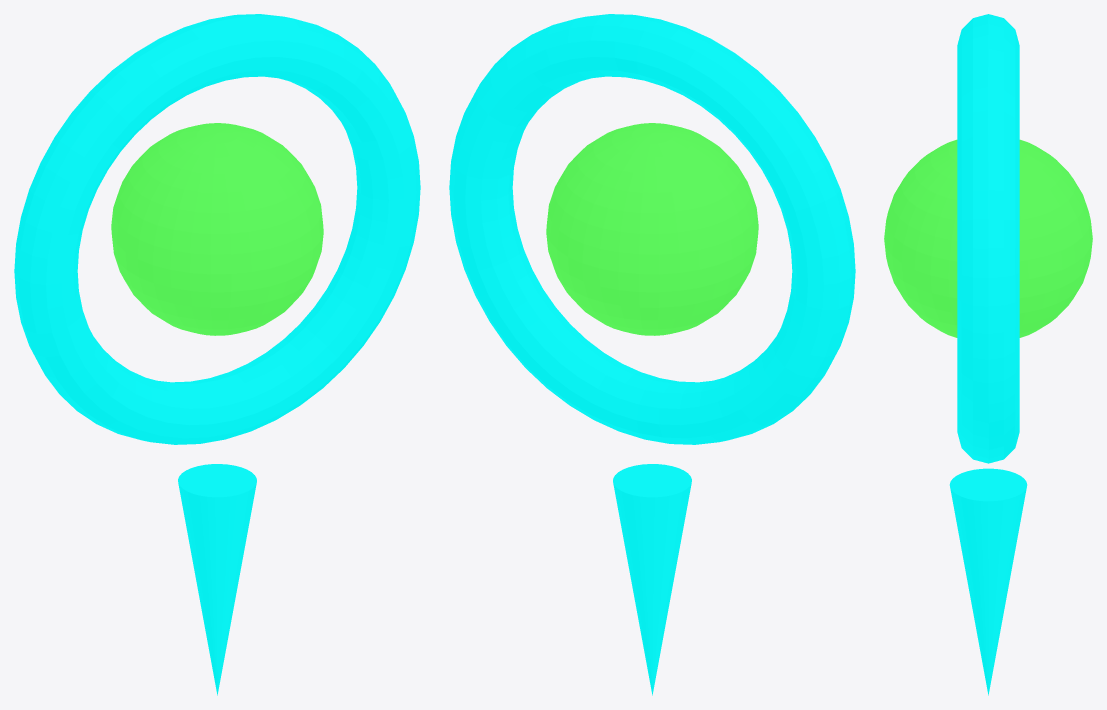
File: ring_icon.glb
The picture shows the model from 3 angles, left to right: view 1: azimuth 30°, elevation 25°; view 2: azimuth 150°, elevation 25°; view 3: azimuth 270°, elevation 25°; orthographic projection. The views are drawn at different scales.
Parts seen in each view (by area): view 1: CollectibleRing, SeedCore, BaseCone; view 2: CollectibleRing, SeedCore, BaseCone; view 3: CollectibleRing, SeedCore, BaseCone.
Part boxes in pixels (box(x1,y1,x2,y2)): CollectibleRing: box(14, 14, 420, 444); SeedCore: box(111, 123, 323, 335); BaseCone: box(178, 464, 256, 695); CollectibleRing: box(449, 14, 855, 444); SeedCore: box(546, 123, 758, 335); BaseCone: box(613, 464, 691, 695); CollectibleRing: box(957, 14, 1019, 463); SeedCore: box(884, 139, 1092, 337); BaseCone: box(949, 468, 1027, 695).
Size of the model in its own units: 1.16 by 1.88 by 0.538.
